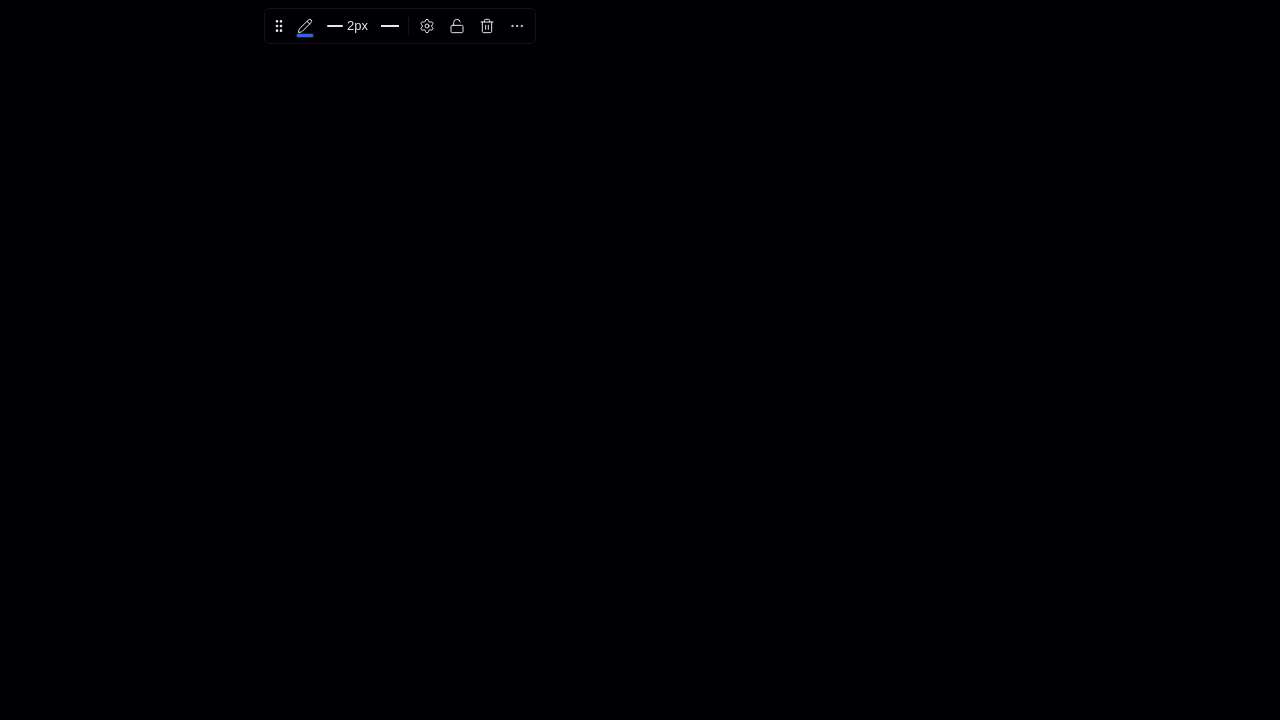
settings dialog › [10.7.21] should drop the draft on Cancel and on Escape
The width and height of the screenshot is (1280, 720).
Click the button named "Settings" at (427, 26), box left=413, top=12, right=441, bottom=40
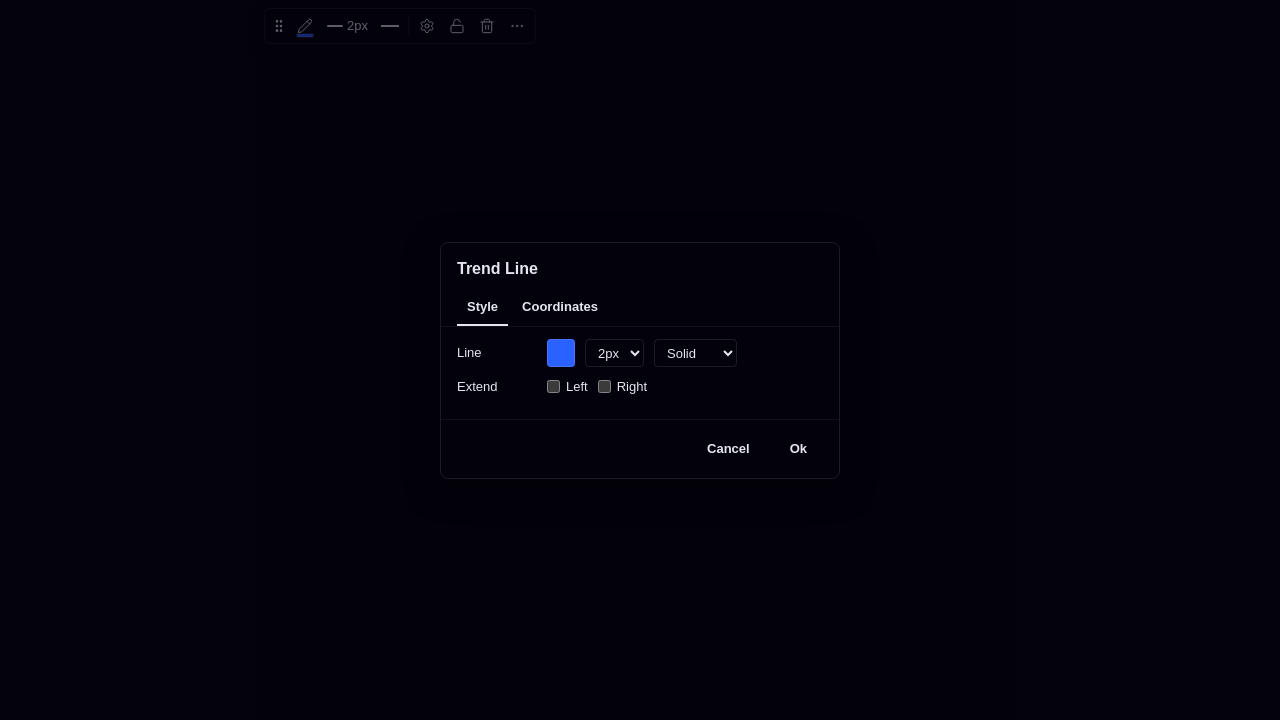
Click the checkbox labelled "Left" at (554, 387), box left=547, top=380, right=560, bottom=393
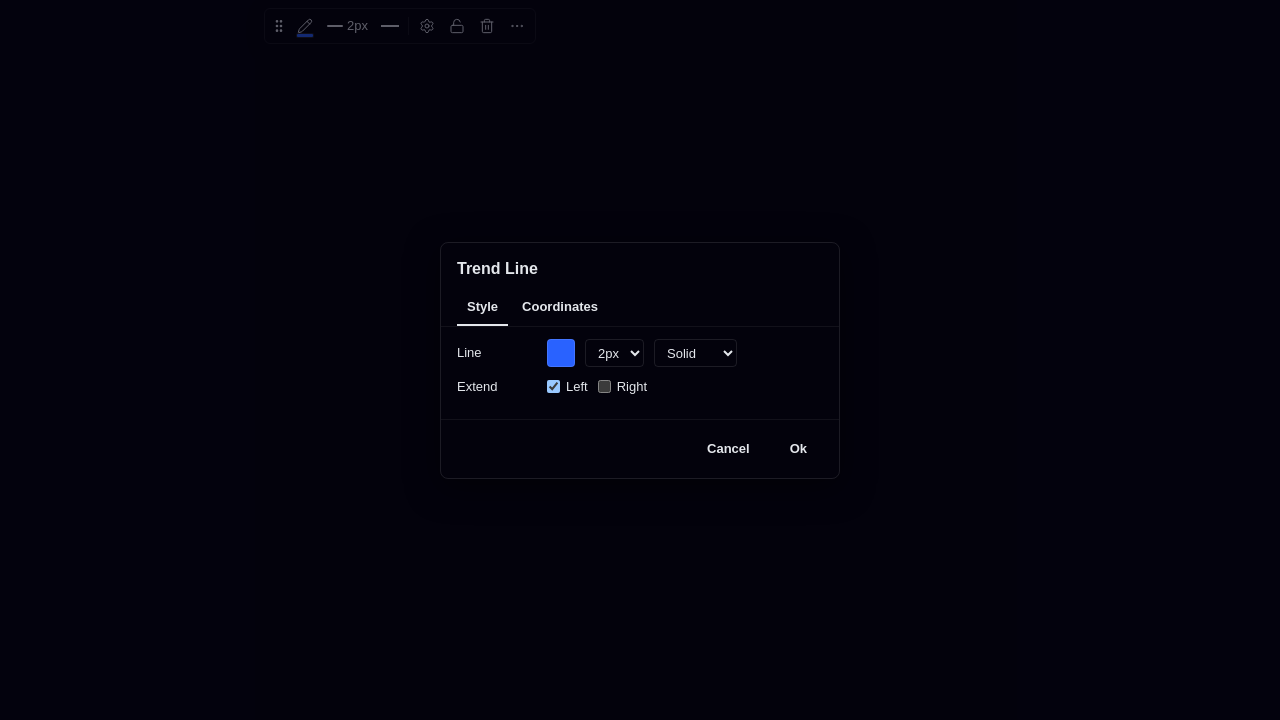
Click the button "Cancel" at (728, 448), box left=691, top=432, right=766, bottom=466
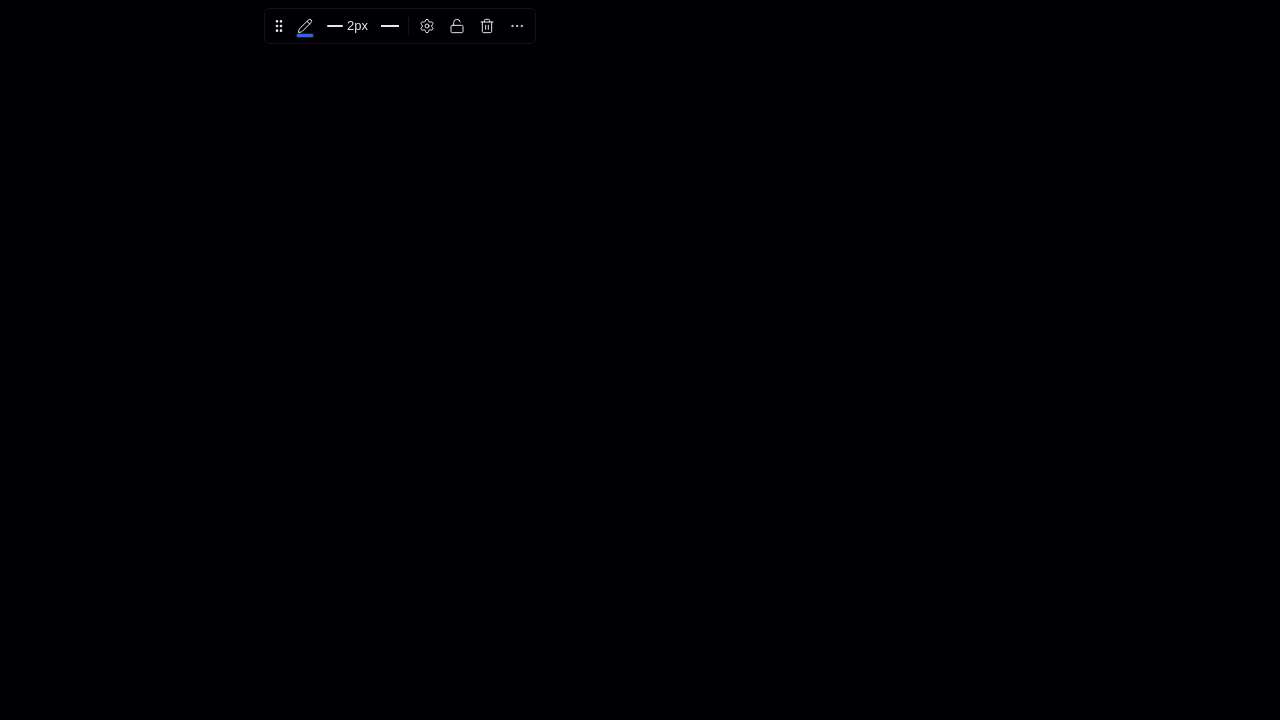
Click the button named "Settings" at (427, 26), box left=413, top=12, right=441, bottom=40
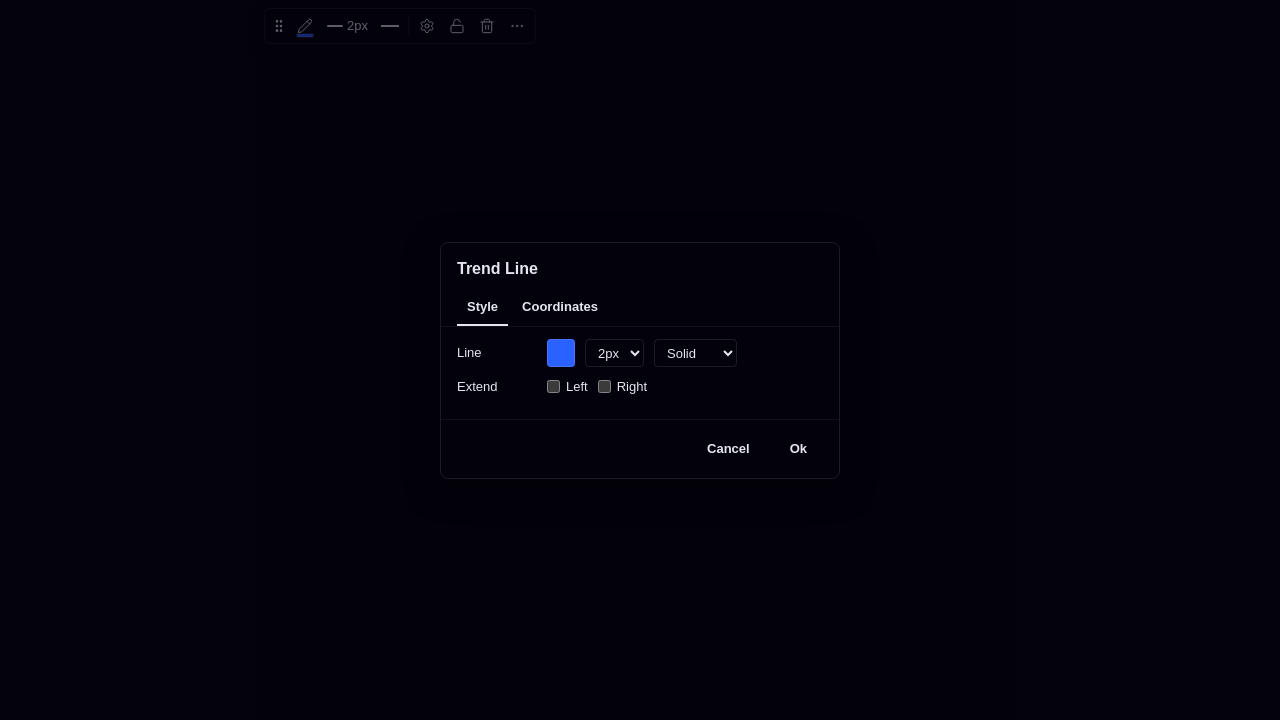
Click the checkbox labelled "Left" at (554, 387), box left=547, top=380, right=560, bottom=393
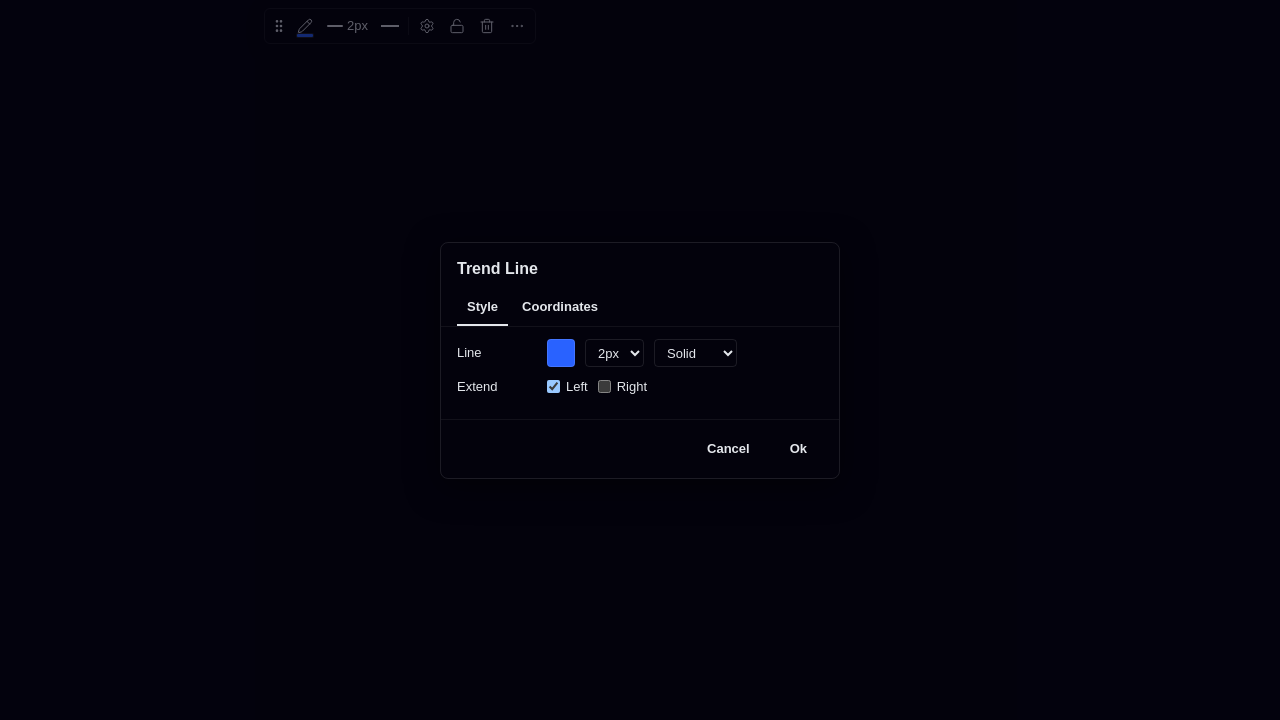
Press Escape in the dialog "Trend Line", box left=440, top=242, right=840, bottom=478
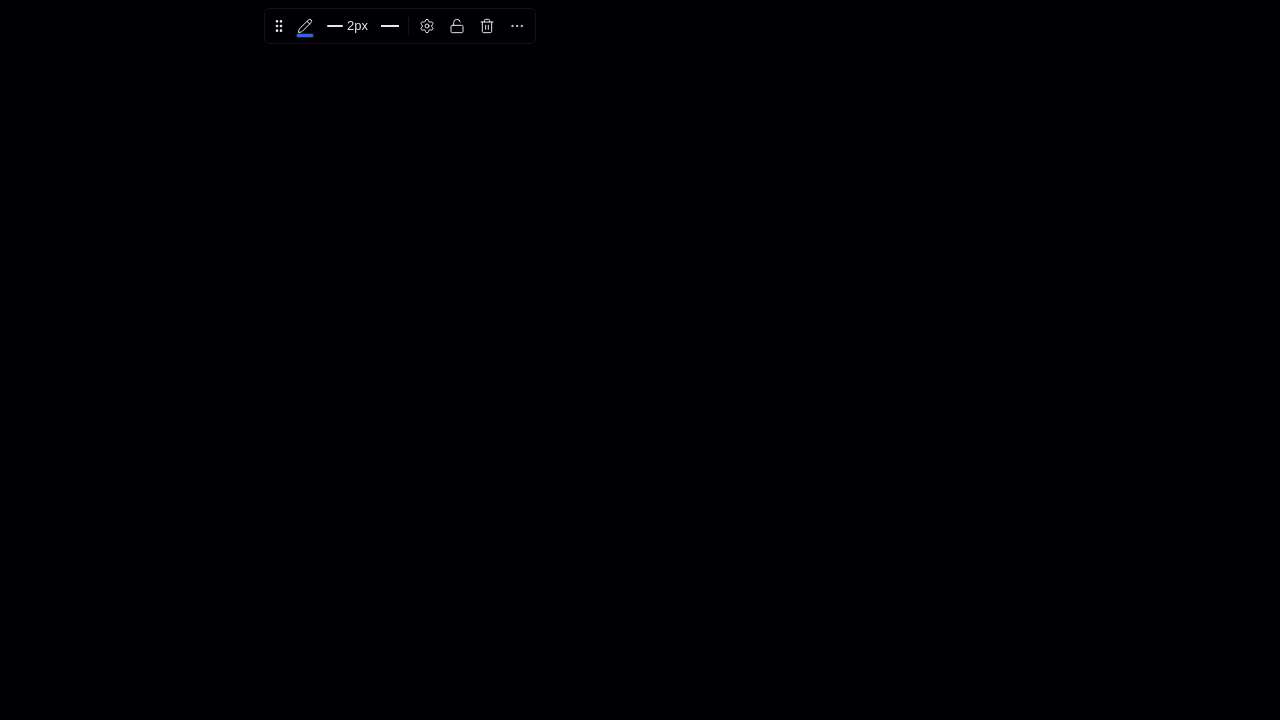
Check: the dialog is gone
